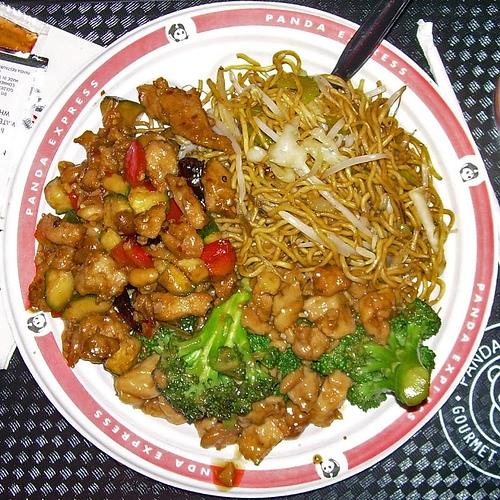broccoli: (151, 277, 288, 426), (334, 299, 442, 413), (277, 347, 302, 379)
